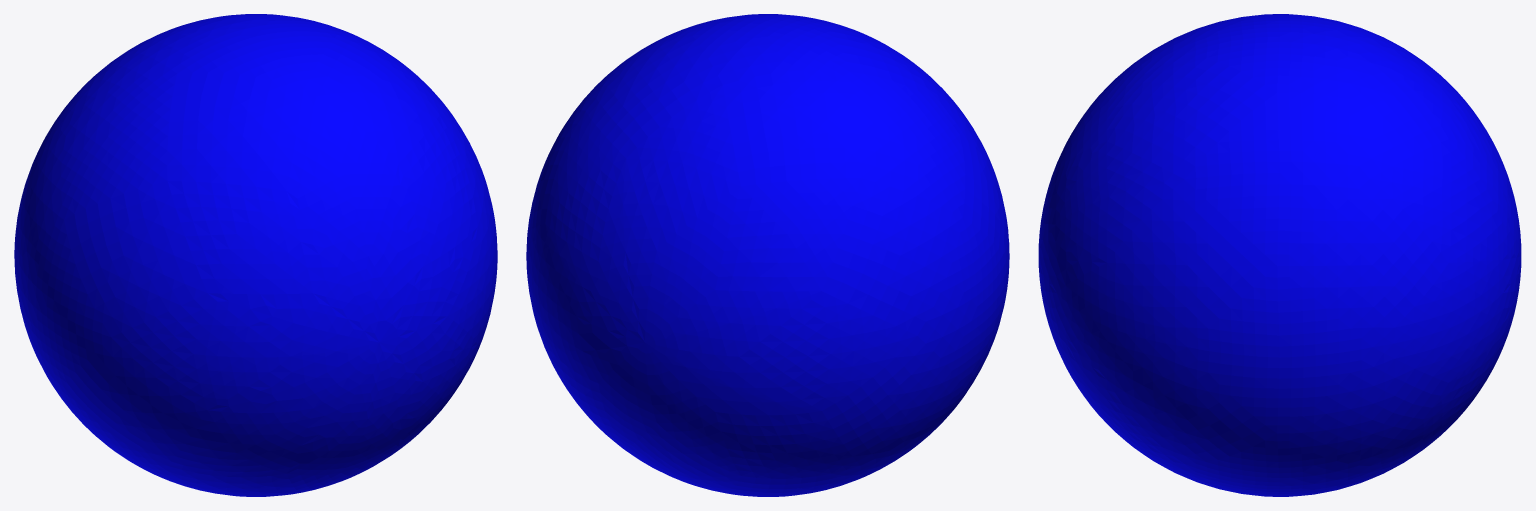
3 views of the same model, side by side, from view 1: azimuth 30°, elevation 25°; view 2: azimuth 150°, elevation 25°; view 3: azimuth 270°, elevation 25° (orthographic).
Bounding box in the file's own units: 11.42 × 11.42 × 11.42.
